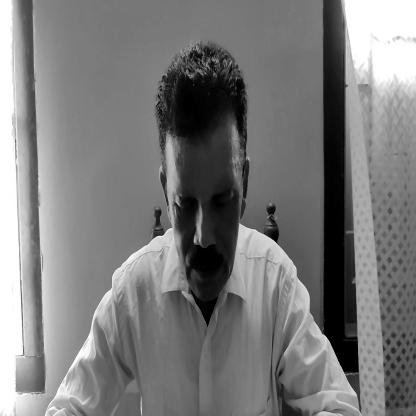Normal: (157, 48, 250, 296)
